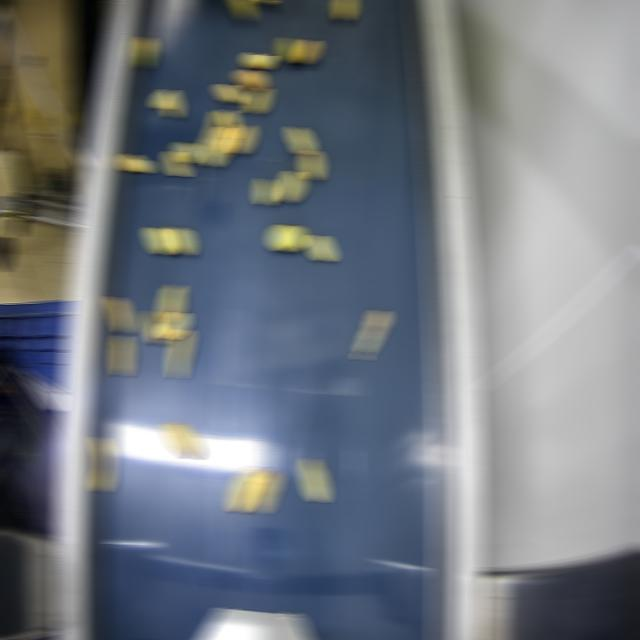Baby Potato: (356, 307, 390, 360), (229, 467, 266, 512), (165, 421, 198, 457), (94, 437, 114, 494), (204, 128, 233, 167), (253, 470, 278, 513), (303, 457, 326, 503), (170, 328, 191, 378), (271, 224, 304, 252), (108, 296, 131, 333), (203, 113, 226, 150), (153, 88, 180, 118), (161, 284, 182, 321), (146, 227, 173, 255), (159, 312, 186, 339), (113, 336, 130, 376), (281, 170, 302, 202), (169, 226, 192, 255), (230, 124, 253, 153), (145, 310, 164, 344), (309, 234, 332, 262), (289, 126, 312, 154), (121, 153, 150, 173), (302, 150, 321, 180), (237, 69, 264, 90), (295, 40, 318, 64), (174, 141, 199, 163), (247, 87, 268, 113), (166, 151, 187, 176), (279, 37, 298, 63), (257, 177, 274, 206), (244, 52, 273, 69), (230, 0, 253, 21), (138, 37, 153, 69), (220, 109, 237, 137), (217, 84, 242, 103), (335, 0, 354, 20)
